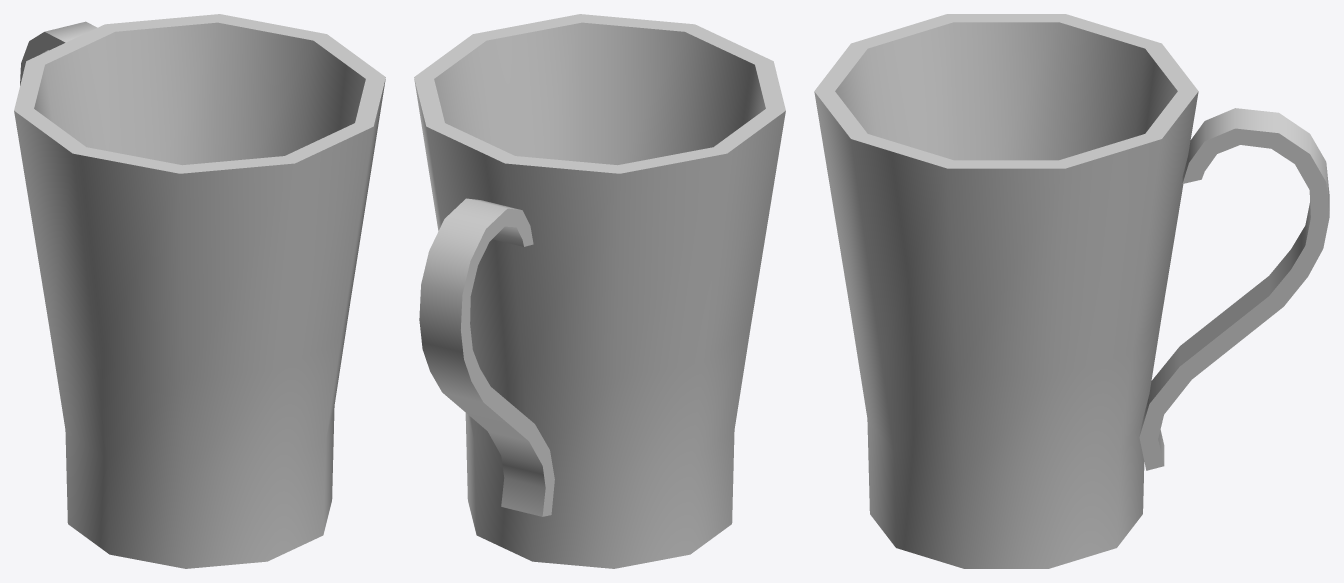
The model's file is Mug_02.fbx.
3 renders of one model, left to right at view 1: azimuth 30°, elevation 25°; view 2: azimuth 150°, elevation 25°; view 3: azimuth 270°, elevation 25°, orthographic.
Parts seen in each view (by area): view 1: Mug_02; view 2: Mug_02; view 3: Mug_02.
Boxes of the visible parts, x1=… form: Mug_02: x1=14, y1=14, x2=385, y2=568; Mug_02: x1=414, y1=14, x2=785, y2=568; Mug_02: x1=814, y1=14, x2=1329, y2=568.
Size of the model in its own units: 0.0915 by 0.1167 by 0.129.
